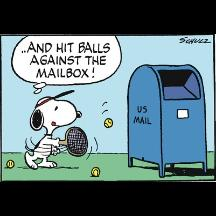snoopy: (24, 90, 82, 170)
